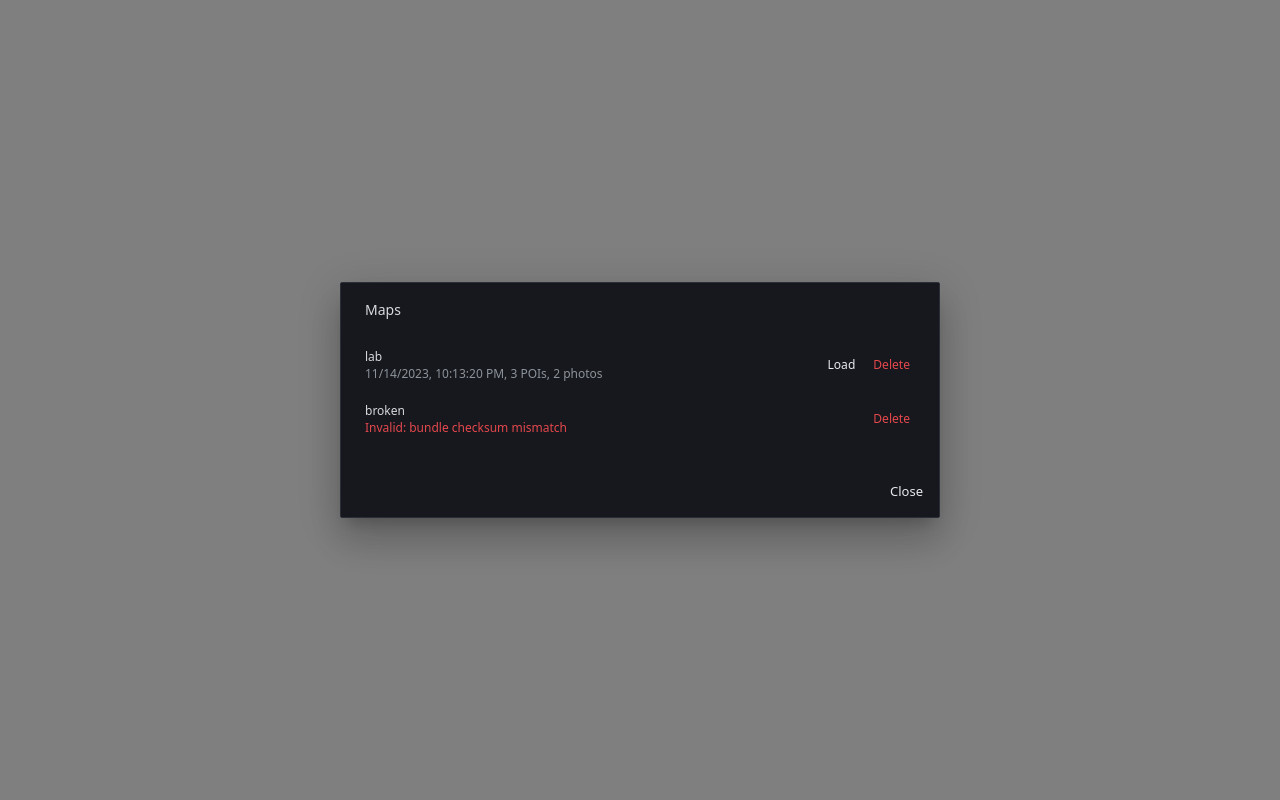
it: MapsDialog load and delete › delete of a map that is not active does not mention the live set
Step 1. Click the button with aria-label "Delete broken" → (892, 419), box [868,403,915,435]
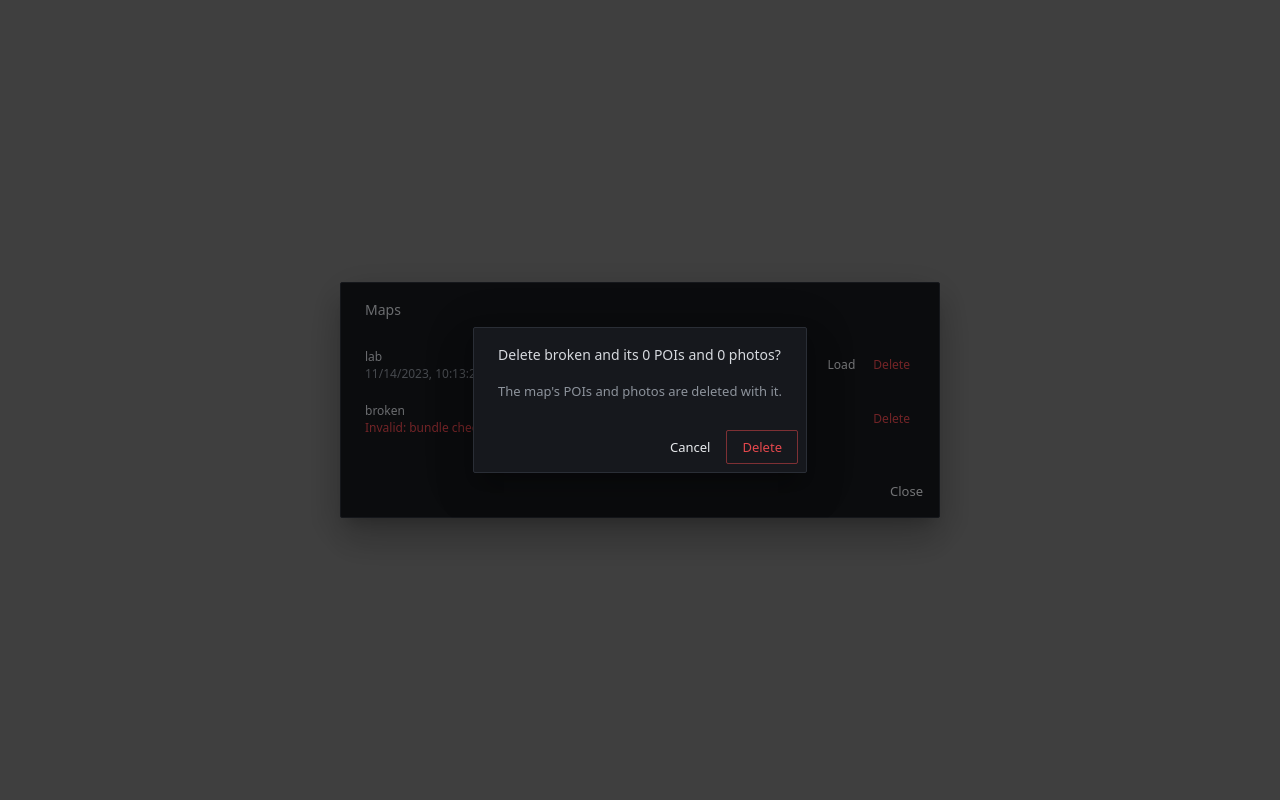
Expected: the dialog shows "map's POIs and photos are deleted with it", [498,382,782,400]
